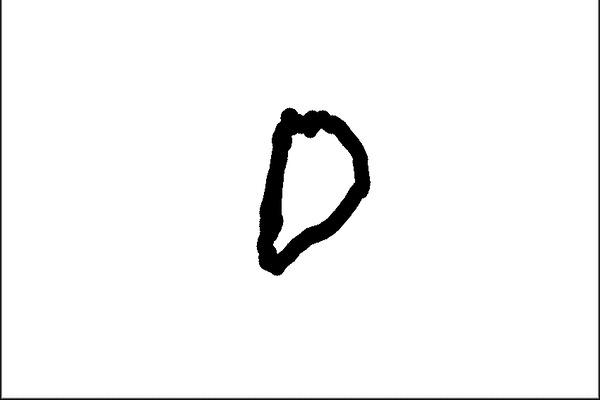D: (245, 99, 382, 283)
